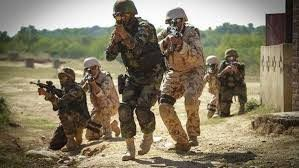gun: (15, 74, 62, 102), (102, 8, 130, 42), (164, 19, 182, 53), (83, 69, 99, 89), (225, 58, 247, 72)
uniform: (110, 18, 162, 148), (157, 32, 203, 134), (45, 79, 90, 144), (77, 69, 120, 134), (208, 63, 246, 115)
